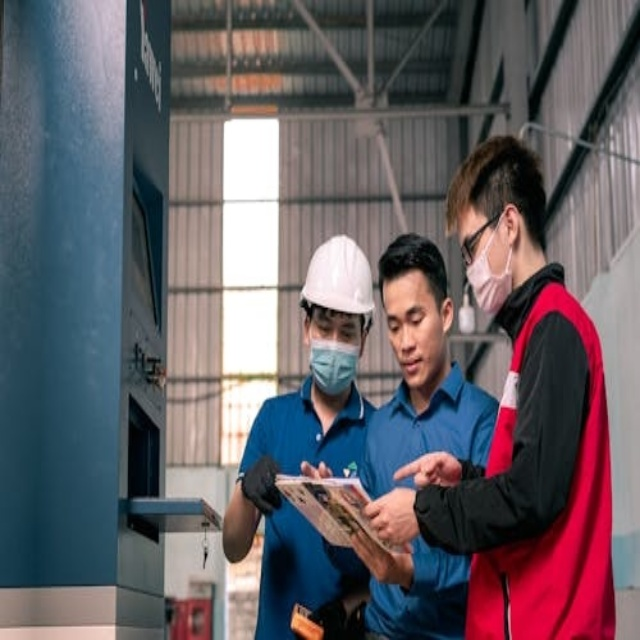Gafas: (461, 206, 499, 261)
Guantes: (237, 440, 292, 519)
Mascara: (464, 215, 515, 316), (308, 333, 360, 396)
Sin_gafas: (384, 296, 429, 334), (307, 309, 364, 338)
Sin_guantes: (357, 481, 422, 552), (392, 450, 462, 489)
Sin_mascara: (394, 350, 428, 377)
